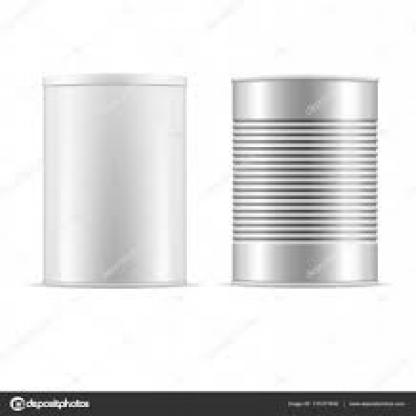METAL: (38, 70, 185, 283), (229, 77, 376, 283)
